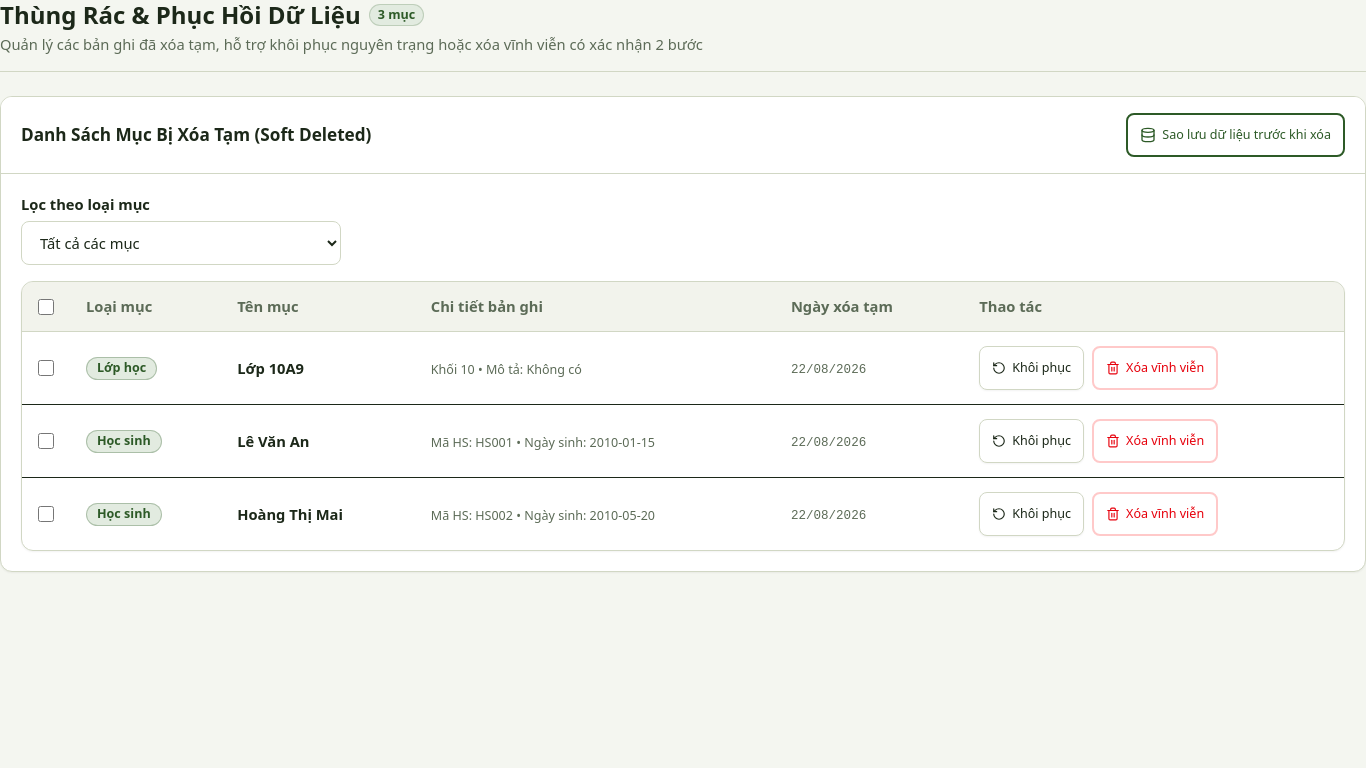
Test case: TrashPage UI & Bulk Operations Tests › 4. Bulk hard deletes selected items with 2-step confirmation
The width and height of the screenshot is (1366, 768).
expect the text "Lớp 10A9" is shown: met, box [237,358,304,378]
Select all items
Click the checkbox named "Chọn tất cả mục": (46, 306) [38,298,54,314]
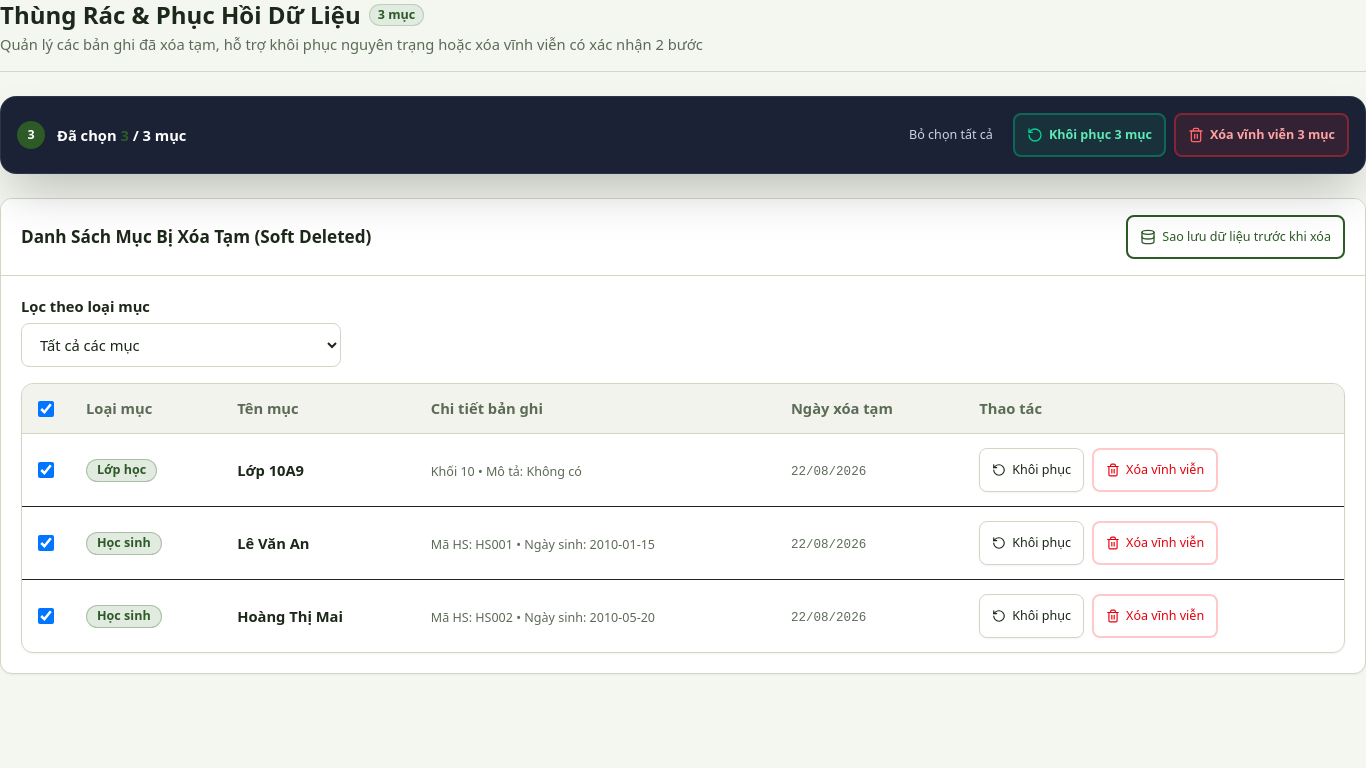
Click the button with test id "bulk-hard-delete-btn": (1262, 135) [1174,113,1349,157]
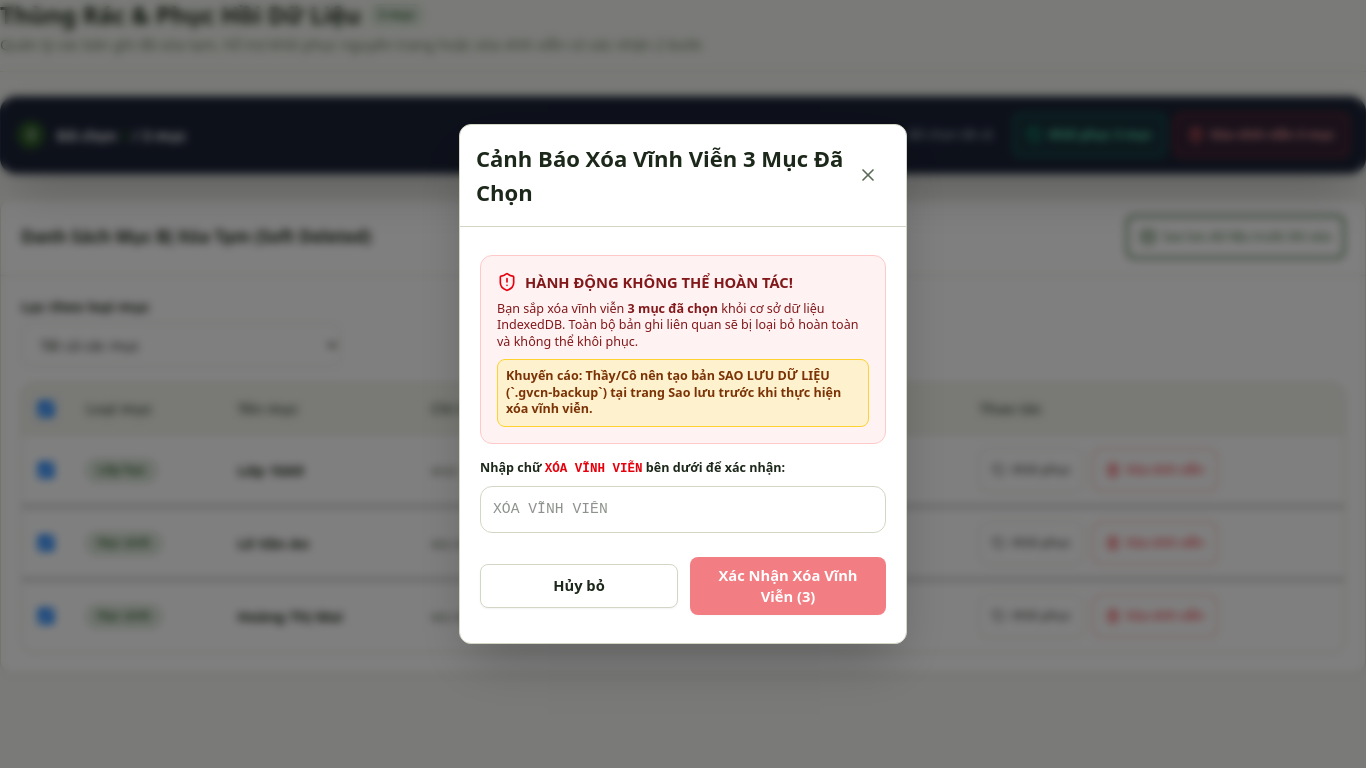
expect the heading "Cảnh Báo Xóa Vĩnh Viễn 3 Mục Đã Chọn" is shown: met, box [476,141,846,210]
expect the button with test id "confirm-bulk-hard-delete-btn" is disabled: met, box [690,557,886,615]
Type wrong confirmation
In the field with test id "bulk-delete-confirm-input": (683, 509) [480,486,886,533], type "XOA"
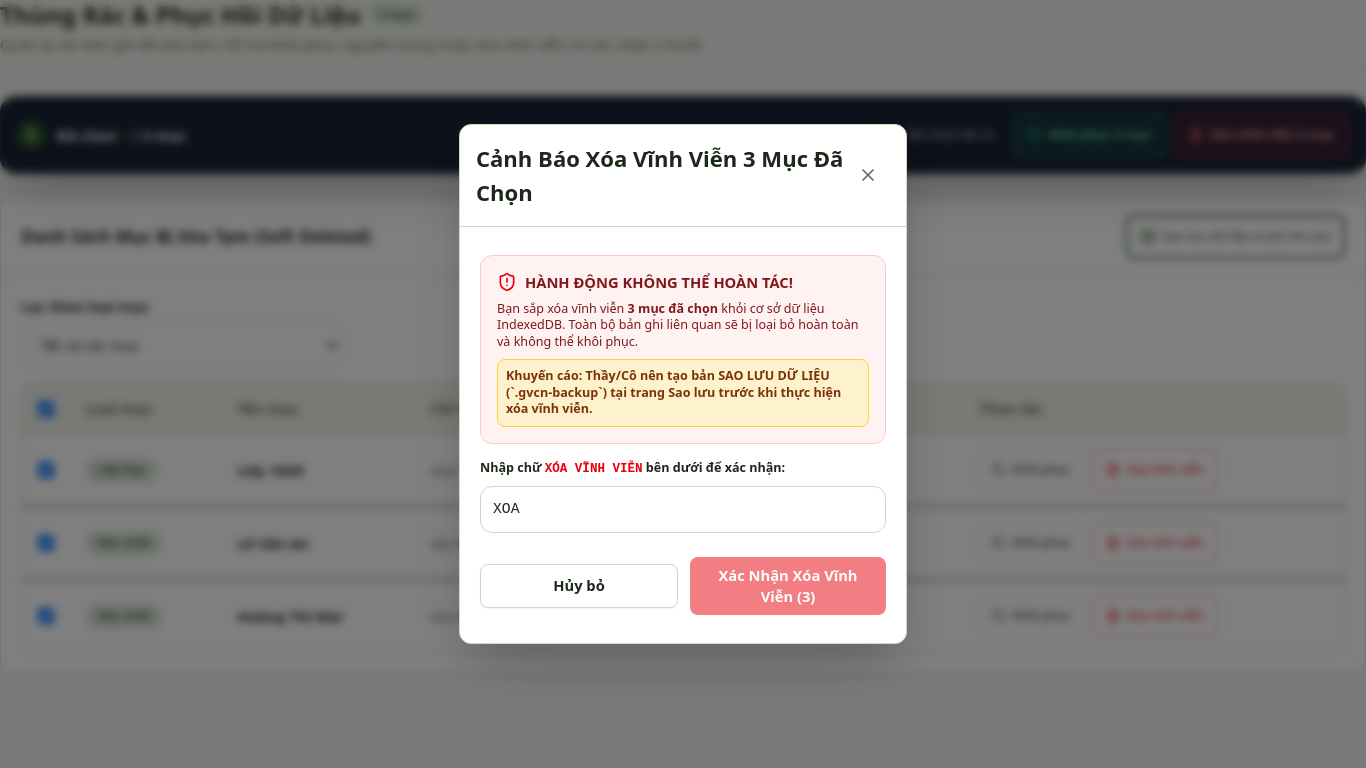
expect the button with test id "confirm-bulk-hard-delete-btn" is disabled: met, box [690,557,886,615]
Type correct confirmation
Replace the text in the field with test id "bulk-delete-confirm-input" with "XÓA VĨNH VIỄN": (683, 509) [480,486,886,533]
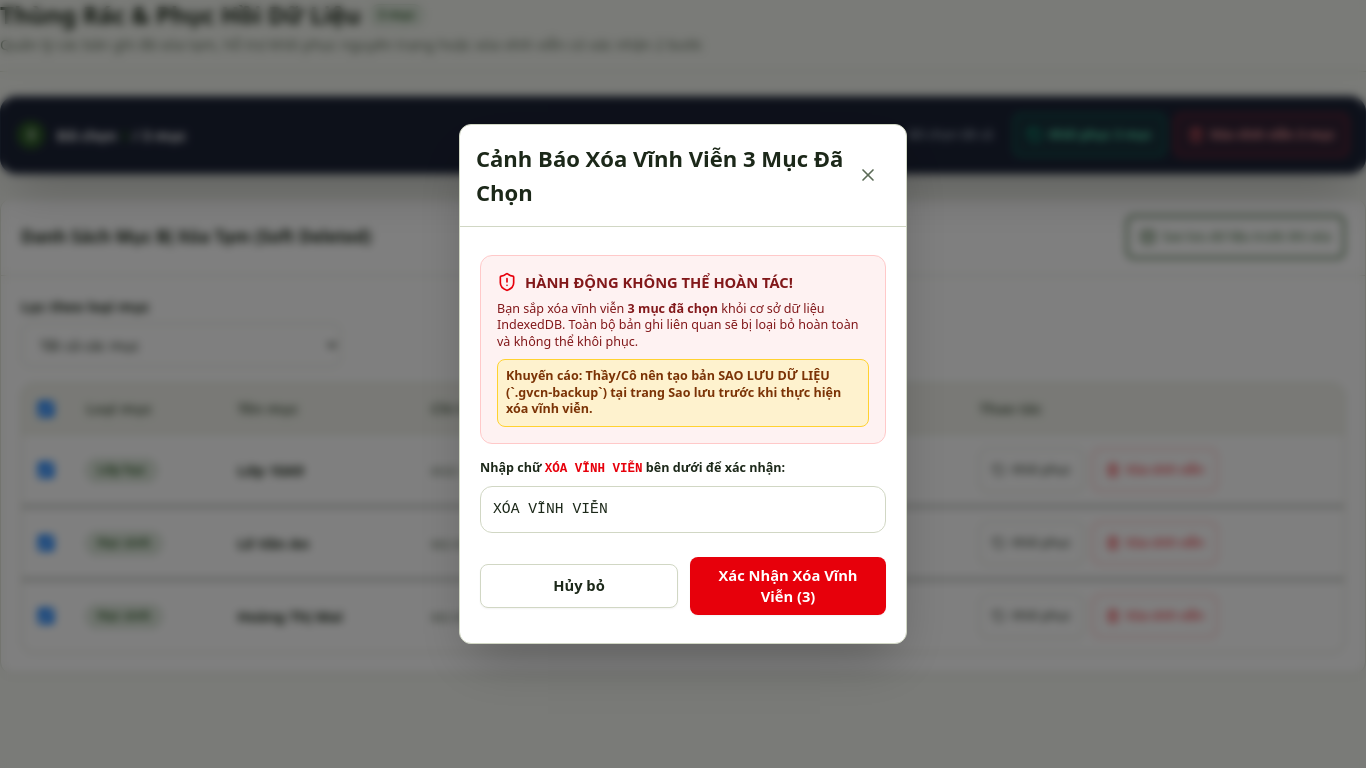
expect the button with test id "confirm-bulk-hard-delete-btn" is enabled: met
Click the button with test id "confirm-bulk-hard-delete-btn": (788, 586) [690,557,886,615]
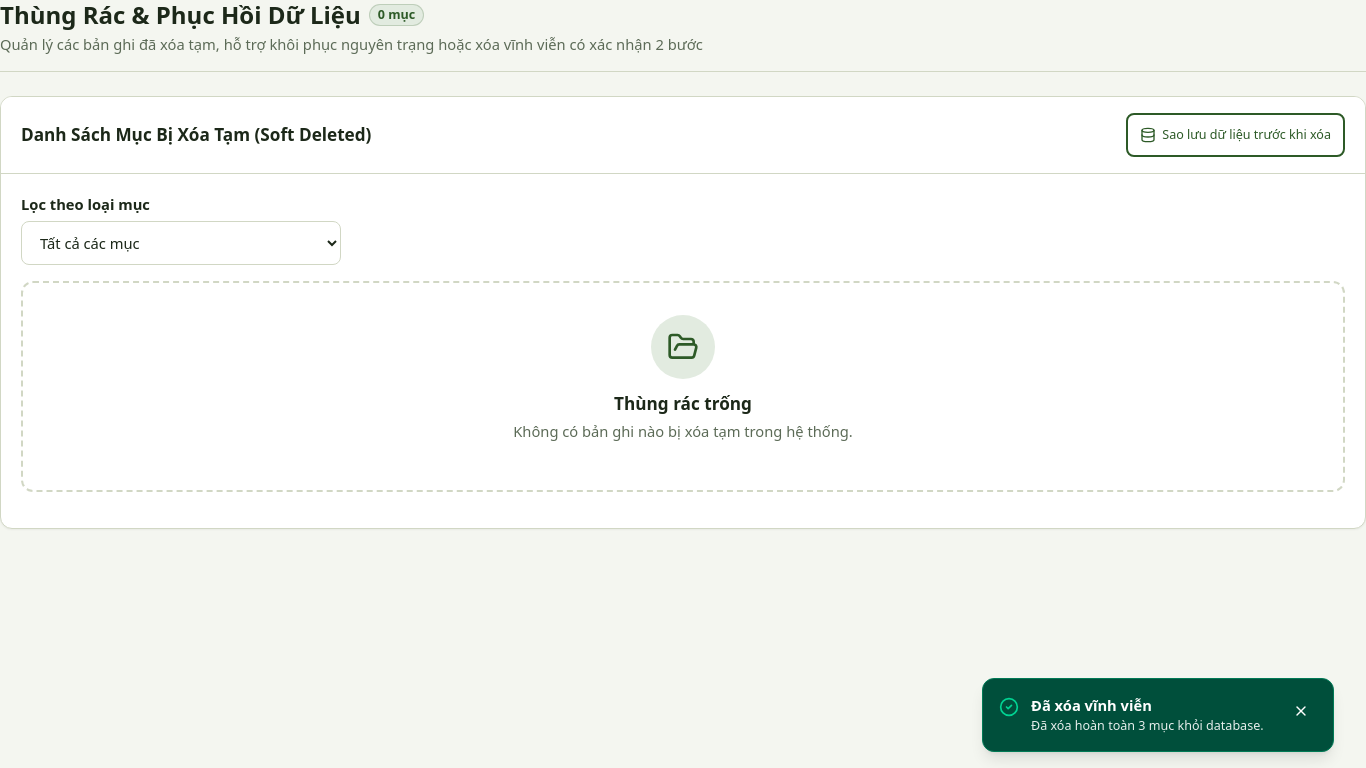
expect the heading "Thùng rác trống" is shown: met, box [614,391,752,417]
